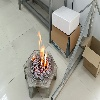fire: (37, 31, 48, 72), (32, 54, 36, 62)
